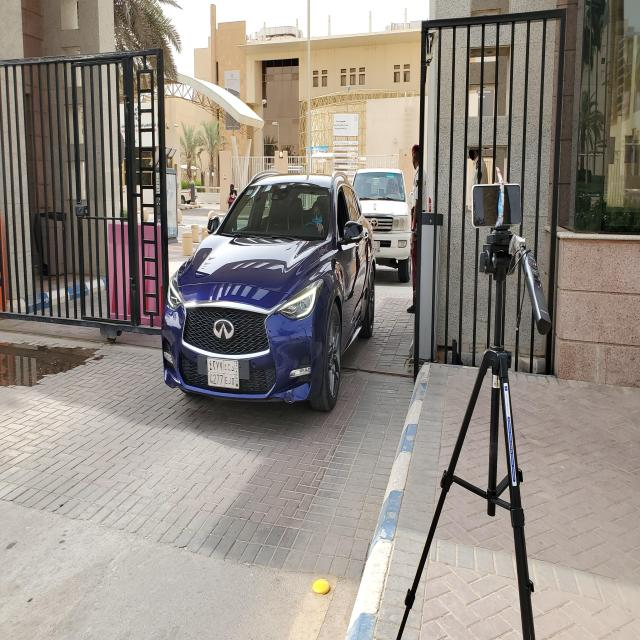license_plate: (207, 357, 240, 390)
